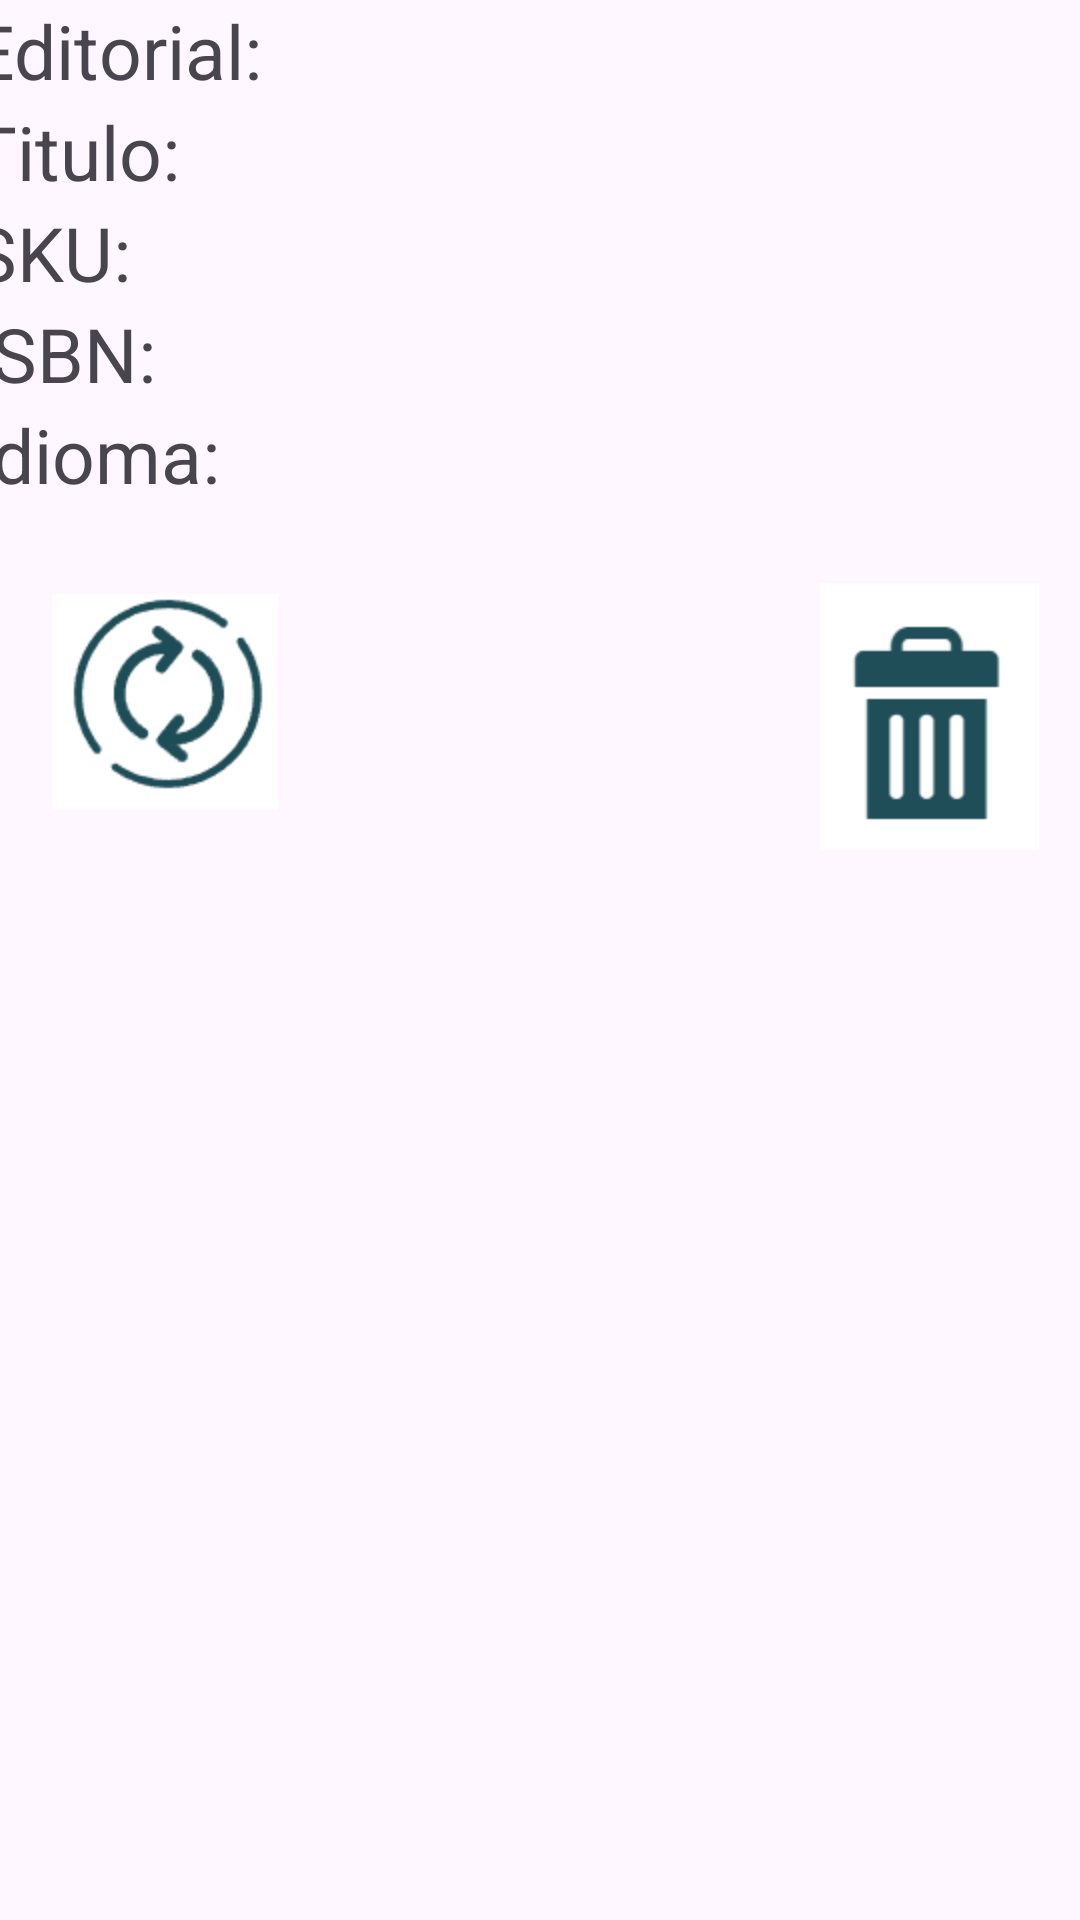

Icon click points for this 1080px x 1920px phone screenshot, format [x,y]:
borrar: [926,723]
